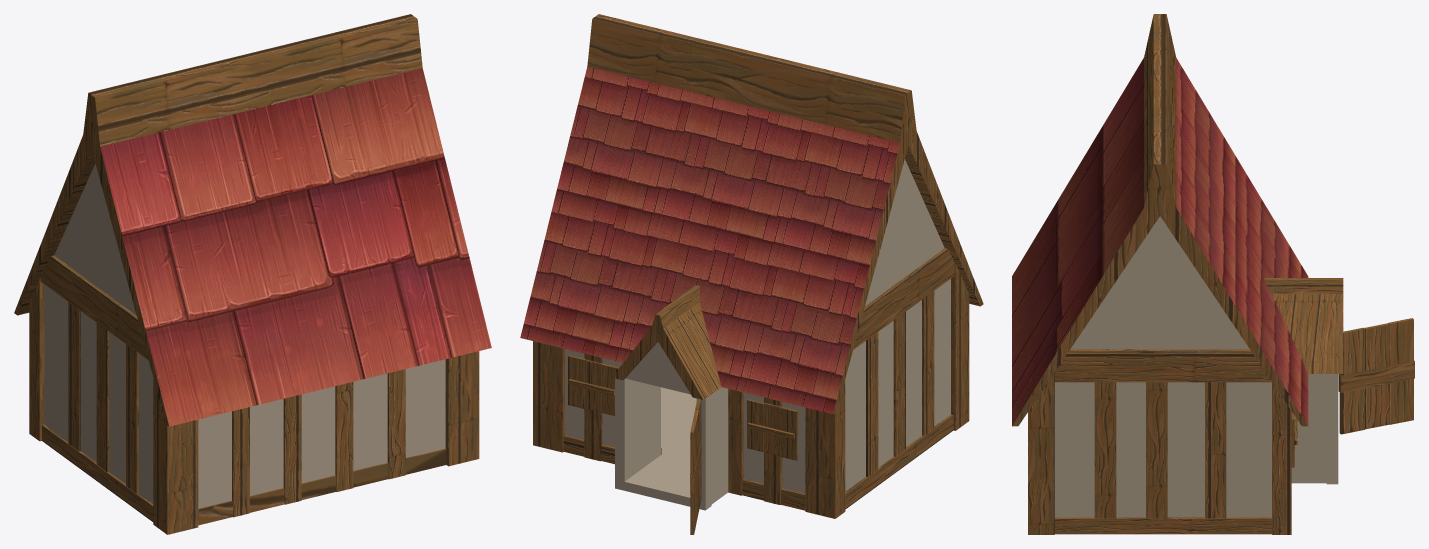
The model's file is crystal woods shed.fbx.
3 views of the same model, side by side, from view 1: azimuth 30°, elevation 25°; view 2: azimuth 150°, elevation 25°; view 3: azimuth 270°, elevation 25° (orthographic). The views are drawn at different scales.
Visible parts, largest first — view 1: Cube.153, Cube.152, Cube.143, Cube.141, Cube.154, Cube.164, Cube.149, Cube.161, Cube.140, Cube.156, Cube.157, Cube.145 (+3 smaller); view 2: Cube.153, Cube.152, Cube.149, Cube.154, Cube.148, Cube.143, Cube.161, Cube.145, Cube.147, Cube.158, Cube.151, Cube.162 (+10 smaller); view 3: Cube.153, Cube.152, Cube.155, Cube.141, Cube.160, Cube.144, Cube.146, Cube.159, Cube.148, Cube.213, Cube.211, Cube.212 (+1 smaller).
Boxes of the visible parts, box(x1,y1,x2,y2) form: Cube.153: box(14, 14, 491, 426); Cube.152: box(44, 164, 445, 508); Cube.143: box(153, 378, 198, 534); Cube.141: box(445, 351, 479, 466); Cube.154: box(40, 255, 148, 359); Cube.164: box(198, 448, 446, 525); Cube.149: box(29, 278, 44, 441); Cube.161: box(42, 424, 153, 521); Cube.140: box(387, 369, 405, 479); Cube.156: box(283, 394, 301, 504); Cube.157: box(335, 382, 353, 491); Cube.145: box(96, 323, 109, 472); Cube.153: box(520, 14, 983, 413); Cube.152: box(565, 159, 950, 510); Cube.149: box(805, 380, 845, 518); Cube.154: box(853, 248, 954, 349); Cube.148: box(533, 341, 564, 452); Cube.143: box(951, 263, 969, 430); Cube.161: box(845, 414, 953, 509); Cube.145: box(893, 312, 905, 456); Cube.147: box(866, 332, 878, 476); Cube.158: box(922, 291, 934, 435); Cube.151: box(728, 389, 743, 495); Cube.162: box(584, 353, 602, 461); Cube.153: box(1012, 14, 1343, 426); Cube.152: box(1054, 216, 1338, 517); Cube.155: box(1054, 349, 1271, 382); Cube.141: box(1028, 373, 1054, 534); Cube.160: box(1054, 517, 1271, 534); Cube.144: box(1094, 382, 1116, 518); Cube.146: box(1205, 382, 1226, 518); Cube.159: box(1146, 382, 1167, 518); Cube.148: box(1272, 382, 1291, 534); Cube.213: box(1388, 318, 1413, 424); Cube.211: box(1364, 323, 1389, 429); Cube.212: box(1339, 327, 1364, 434).
Bounding box in the file's own units: 1342 × 1553 × 1521.
